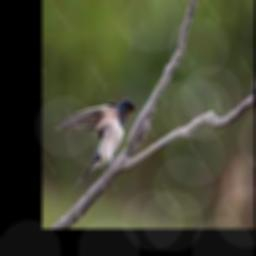Swallow: (56, 97, 138, 187)
